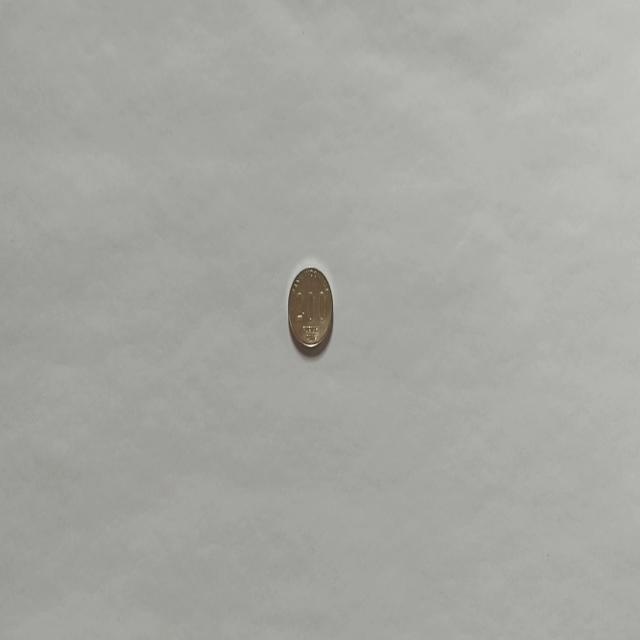dua ratus rupiah: (286, 264, 334, 352)
